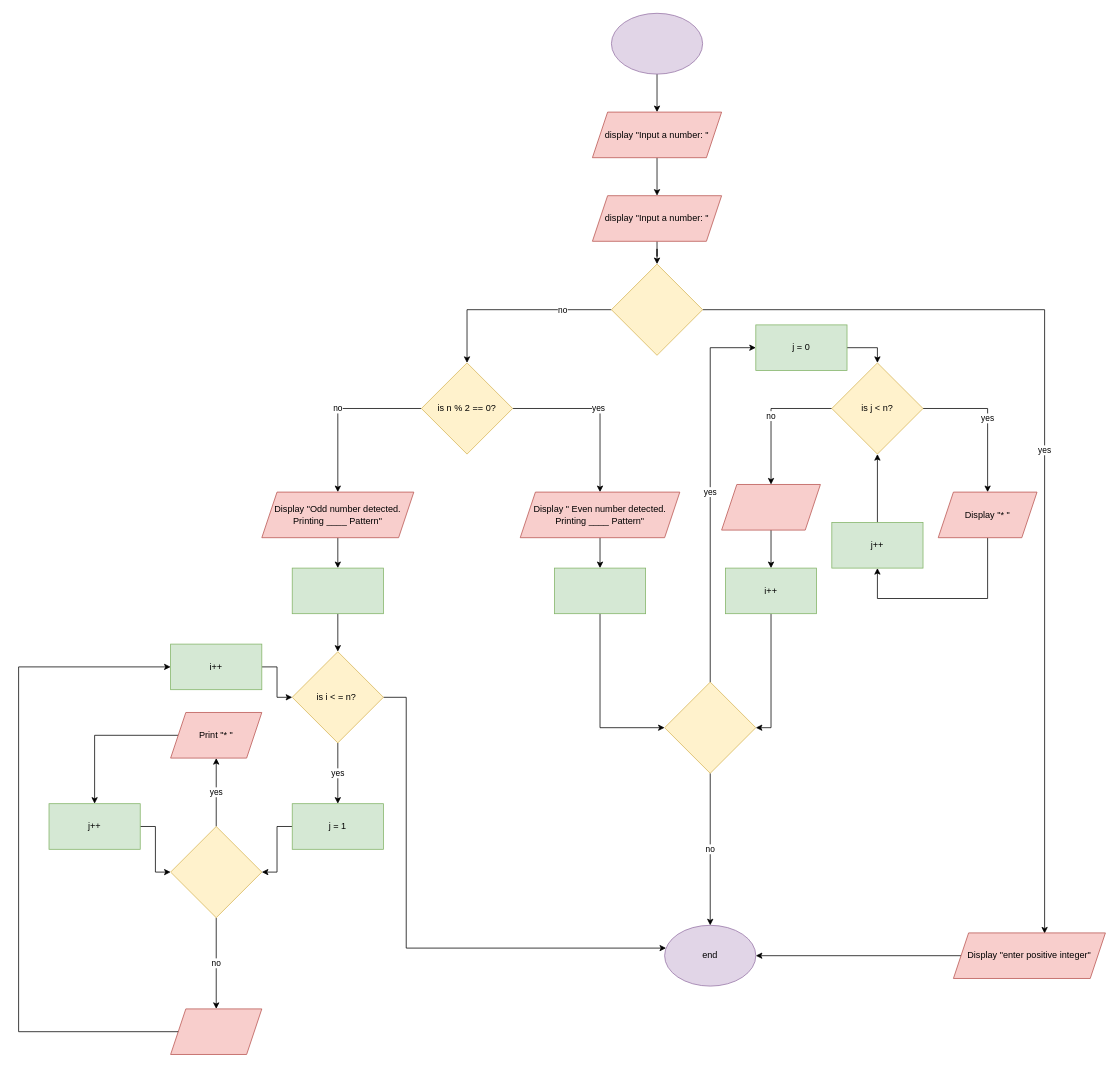
Image size: 1119x1068. Some labels were removed from this diagram. Here are the shapes that lost their labels. From the top down, the centre of each, then its label:
the point at 657,43: start
the point at 657,309: is n <= 0?
the point at 770,507: Display Endline
the point at 337,590: i = 1
the point at 600,590: i=0
the point at 710,727: is i < n?
the point at 216,872: is j <=i?
the point at 216,1031: Print endl
